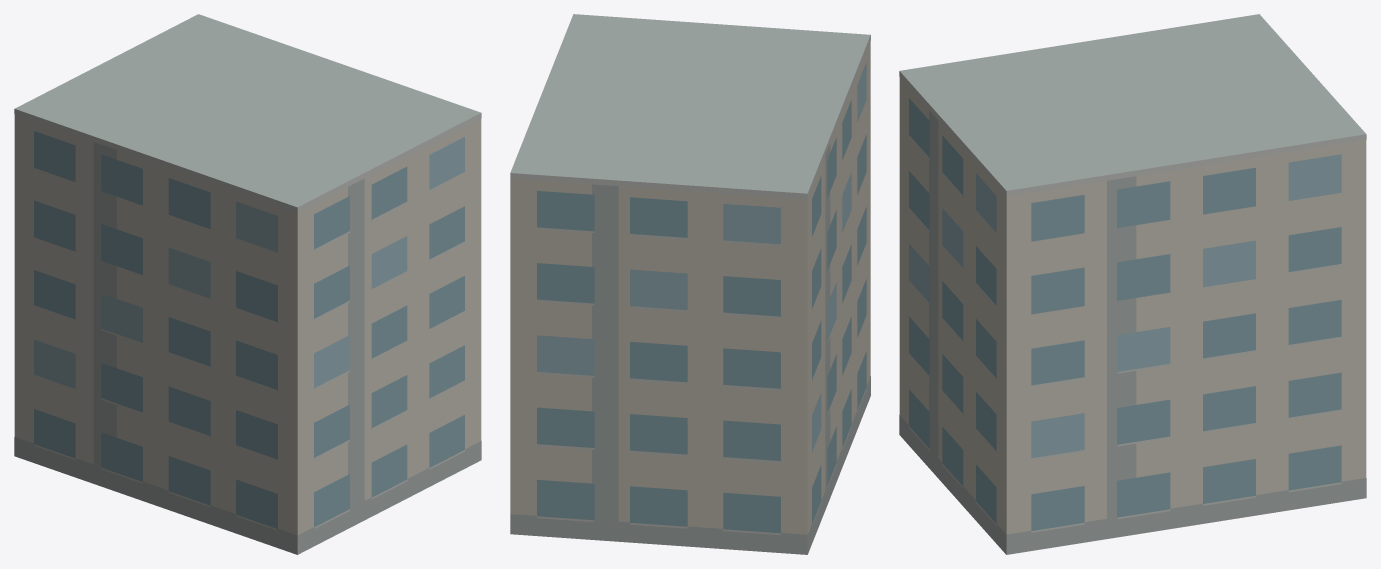
File: survey-upis-32953571.glb
The picture shows the model from 3 angles, left to right: view 1: azimuth 30°, elevation 25°; view 2: azimuth 150°, elevation 25°; view 3: azimuth 270°, elevation 25°; orthographic projection. The views are drawn at different scales.
Visible parts, largest first — view 1: survey-upis-32953571.tmp; view 2: survey-upis-32953571.tmp; view 3: survey-upis-32953571.tmp.
Boxes of the visible parts, x1,y1,x2,y2 form: survey-upis-32953571.tmp: [14, 14, 481, 554]; survey-upis-32953571.tmp: [510, 14, 870, 554]; survey-upis-32953571.tmp: [899, 14, 1366, 554].
Size of the model in its own units: 16.11 by 15.45 by 17.97.
